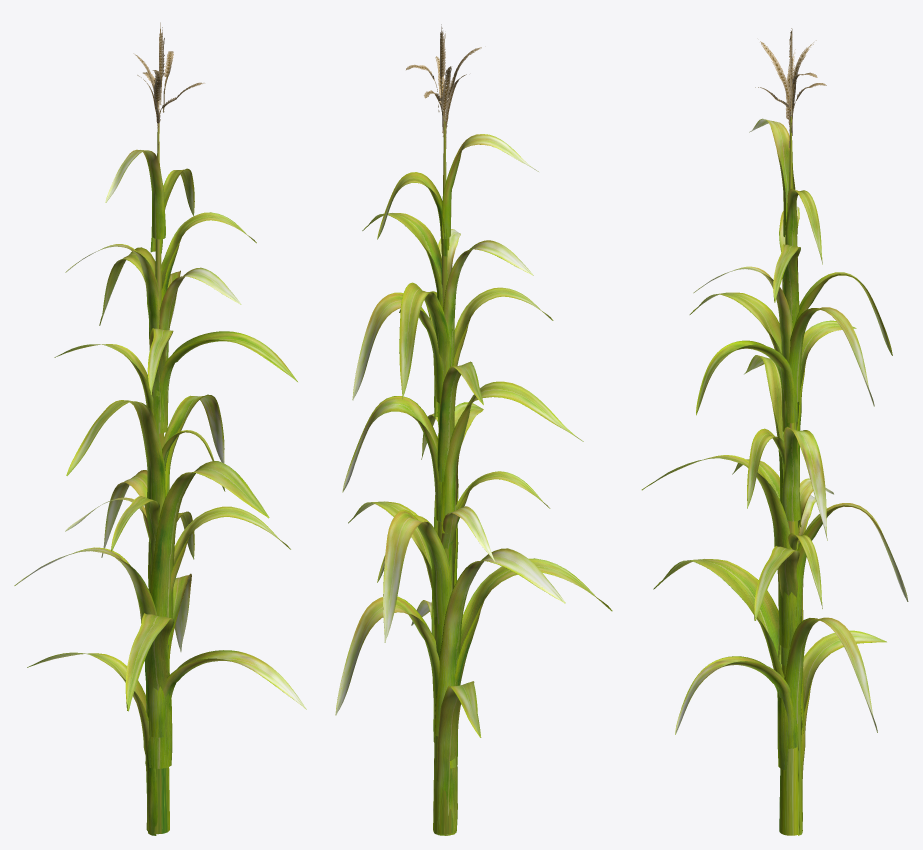
The model's file is CornPlant.fbx.
3 renders of one model, left to right at view 1: azimuth 30°, elevation 25°; view 2: azimuth 150°, elevation 25°; view 3: azimuth 270°, elevation 25°, orthographic.
Parts seen in each view (by area): view 1: Export_pCylinder2, Export_group5_polySurface12; view 2: Export_pCylinder2, Export_group5_polySurface12; view 3: Export_pCylinder2, Export_group5_polySurface12.
Part boxes in pixels (<box>): Export_pCylinder2: <box>14,123,306,835</box>; Export_group5_polySurface12: <box>133,22,204,150</box>; Export_pCylinder2: <box>335,117,612,835</box>; Export_group5_polySurface12: <box>406,24,481,148</box>; Export_pCylinder2: <box>641,116,908,835</box>; Export_group5_polySurface12: <box>755,28,826,147</box>.
Size of the model in its own units: 8.53 by 26.91 by 7.94.
